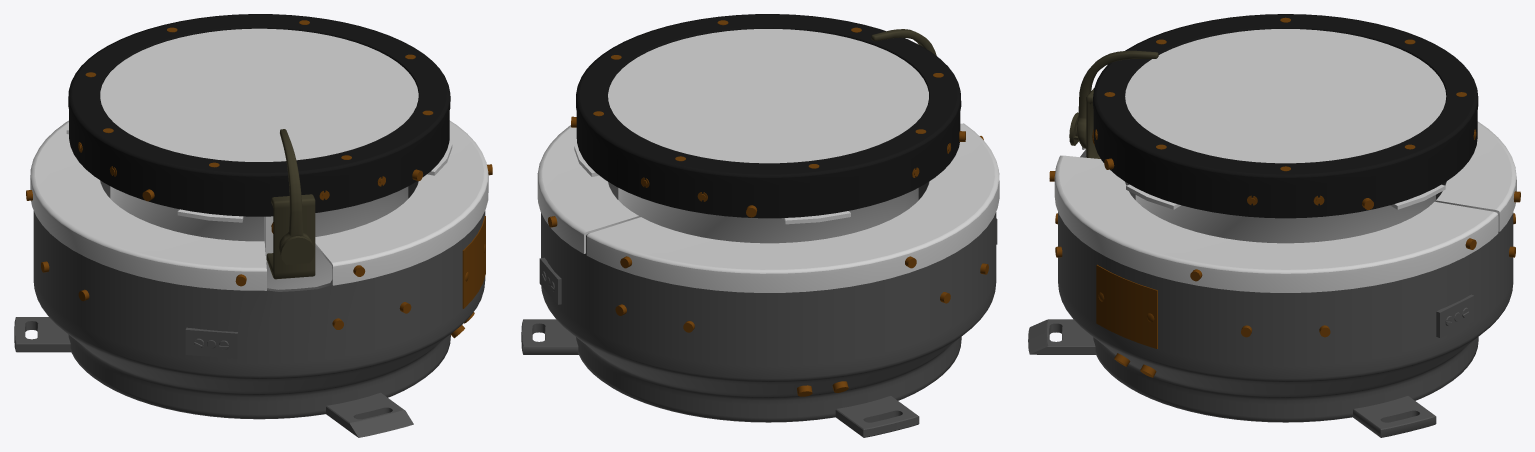
The picture shows the model from 3 angles, left to right: view 1: azimuth 30°, elevation 25°; view 2: azimuth 150°, elevation 25°; view 3: azimuth 270°, elevation 25°; orthographic projection.
Parts seen in each view (by area): view 1: Bowl.001, Core, Upper_Glass, Upper_Rim, Brass_Lever_Assy, Hardware_brass; view 2: Bowl.001, Core, Upper_Glass, Upper_Rim, Hardware_brass, Brass_Lever_Assy; view 3: Bowl.001, Core, Upper_Glass, Upper_Rim, Hardware_brass, Brass_Lever_Assy.
Boxes of the visible parts, bbox=[...] form: Bowl.001: bbox=[14, 180, 485, 437]; Core: bbox=[30, 120, 488, 290]; Upper_Glass: bbox=[100, 28, 418, 161]; Upper_Rim: bbox=[68, 14, 450, 216]; Brass_Lever_Assy: bbox=[266, 129, 315, 279]; Hardware_brass: bbox=[26, 20, 492, 338]; Bowl.001: bbox=[521, 182, 997, 437]; Core: bbox=[537, 123, 999, 292]; Upper_Glass: bbox=[608, 29, 928, 163]; Upper_Rim: bbox=[576, 14, 961, 218]; Hardware_brass: bbox=[548, 20, 988, 396]; Brass_Lever_Assy: bbox=[871, 29, 936, 55]; Bowl.001: bbox=[1028, 149, 1513, 437]; Core: bbox=[1054, 121, 1516, 292]; Upper_Glass: bbox=[1125, 29, 1446, 163]; Upper_Rim: bbox=[1093, 14, 1478, 218]; Hardware_brass: bbox=[1049, 17, 1520, 377]; Brass_Lever_Assy: bbox=[1069, 50, 1158, 158].
Size of the model in its own units: 1.88 by 1.21 by 2.
